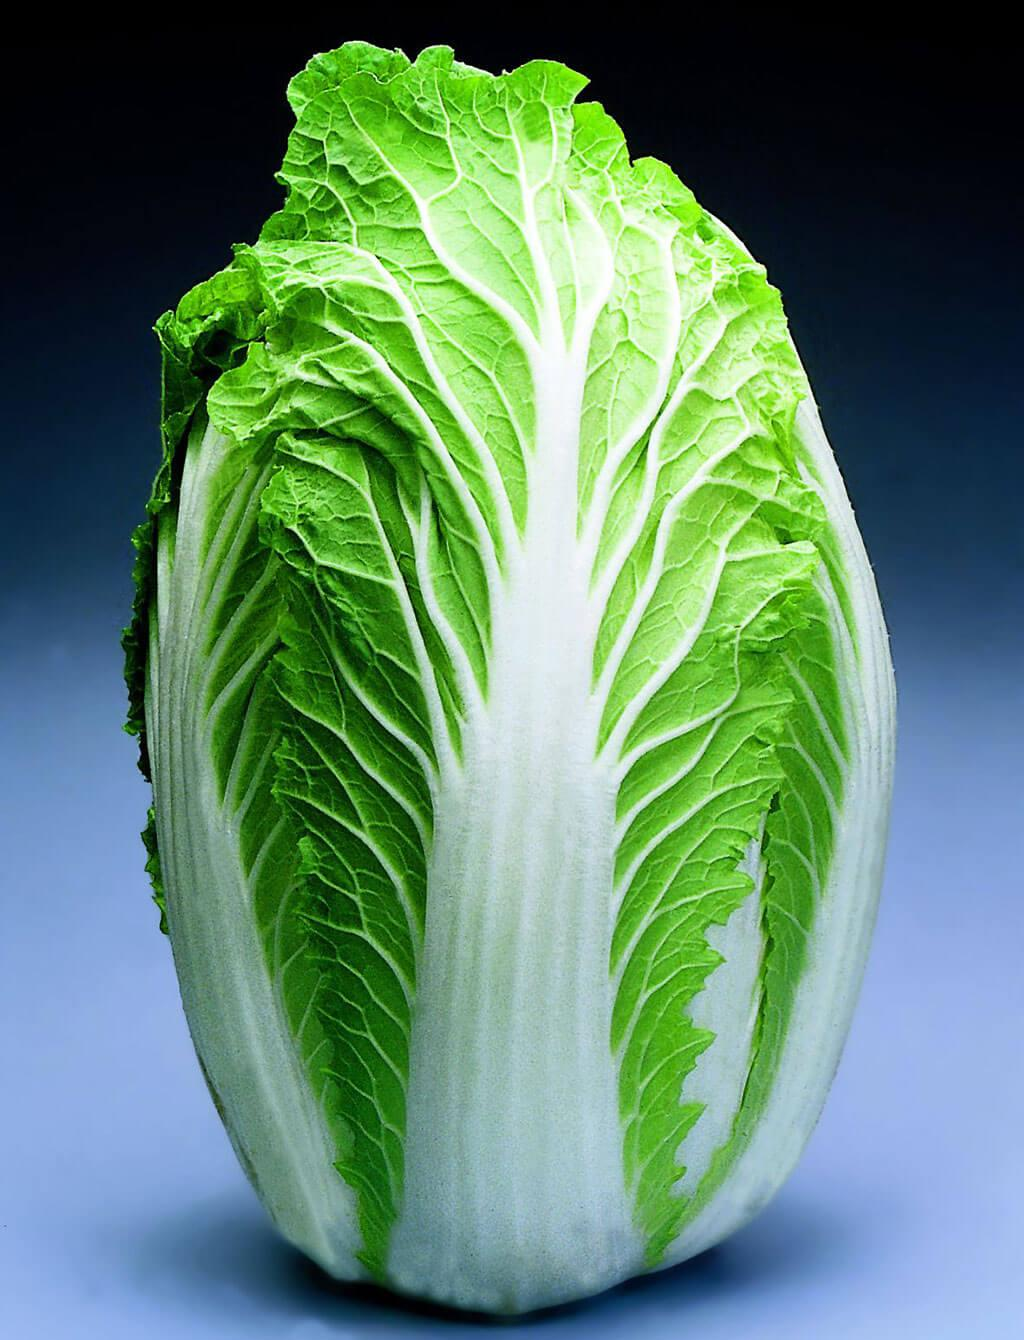cabbage: (120, 39, 899, 1318)
